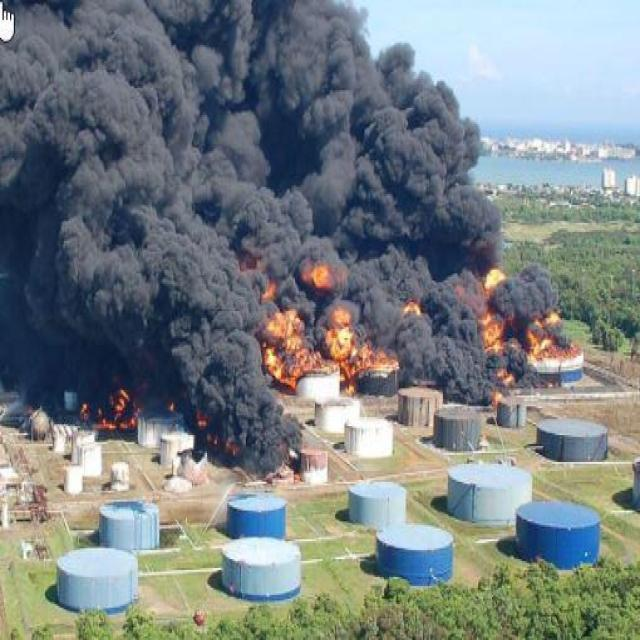Fire: (264, 314, 304, 383), (326, 311, 353, 363), (113, 383, 139, 425), (482, 310, 503, 356), (522, 336, 555, 359), (478, 262, 503, 286), (361, 347, 384, 367)
Smoke: (127, 7, 435, 196), (35, 16, 276, 184), (0, 143, 203, 296)
